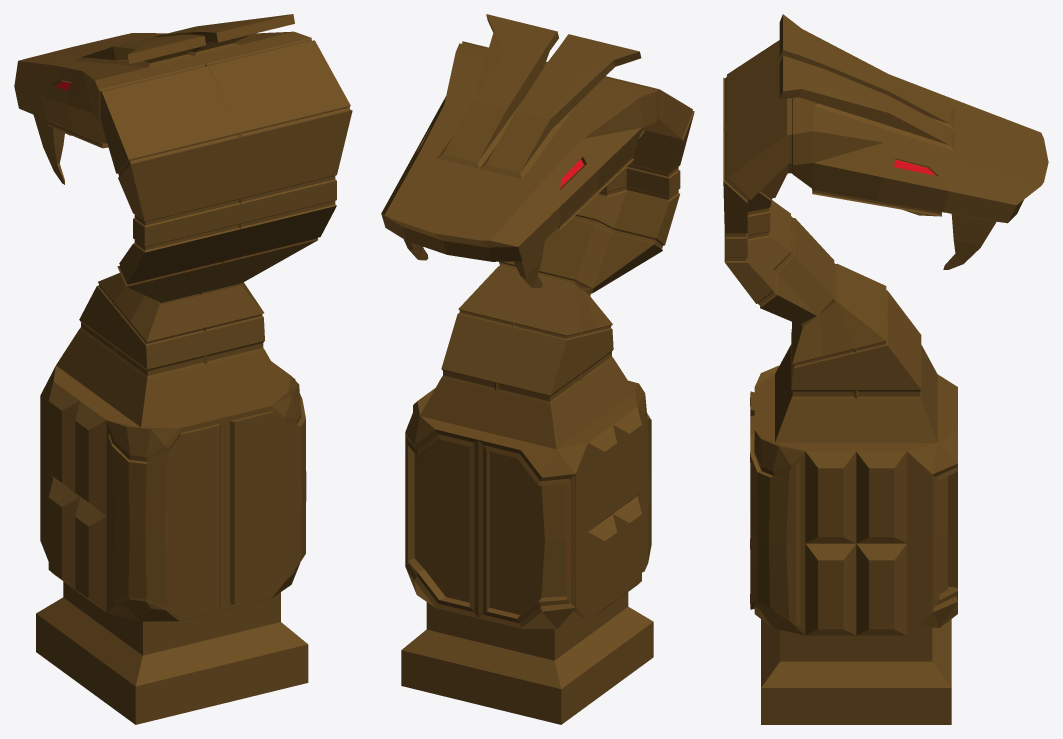
The model's file is alt_snakehead_new.glb.
3 renders of one model, left to right at view 1: azimuth 30°, elevation 25°; view 2: azimuth 150°, elevation 25°; view 3: azimuth 270°, elevation 25°, orthographic. The views are drawn at different scales.
Parts seen in each view (by area): view 1: snake_head; view 2: snake_head; view 3: snake_head.
Part boxes in pixels (x1,y1,x2,y2): snake_head: [14, 14, 352, 724]; snake_head: [381, 14, 694, 724]; snake_head: [723, 14, 1048, 724].
Size of the model in its own units: 0.603 by 1.72 by 0.8003.
1 material, 1 textured.
